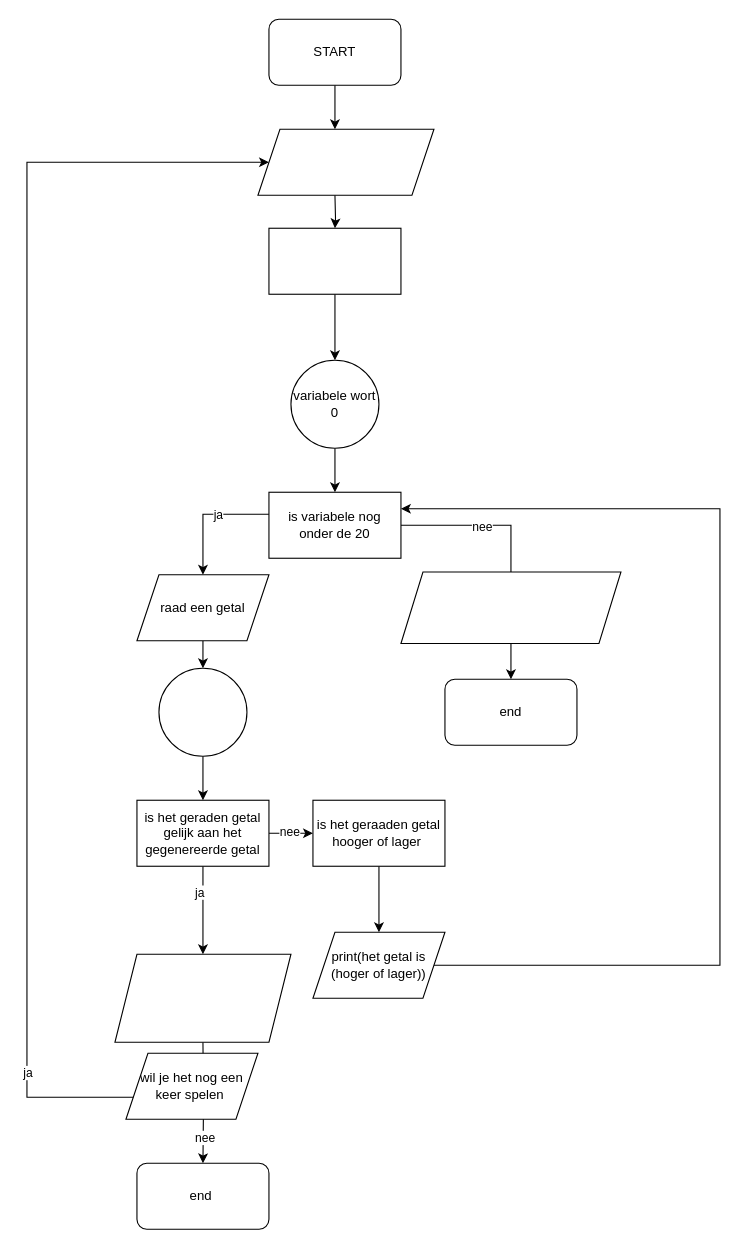
The diagram is 748 pixels wide and 1249 high, and some of its shapes have lost their labels. Each missing label, with the box of its shape:
genereer een gehijm getal: (268, 227, 401, 294)
print(welkoms bericht): (257, 128, 434, 195)
tekst je hebt geen pogingen meer: (400, 571, 621, 644)
tekst(GEFELICITEERD je hebt het getal geraden in (variabele) pogingen ): (114, 953, 291, 1042)
variabele +=1: (158, 667, 247, 756)
